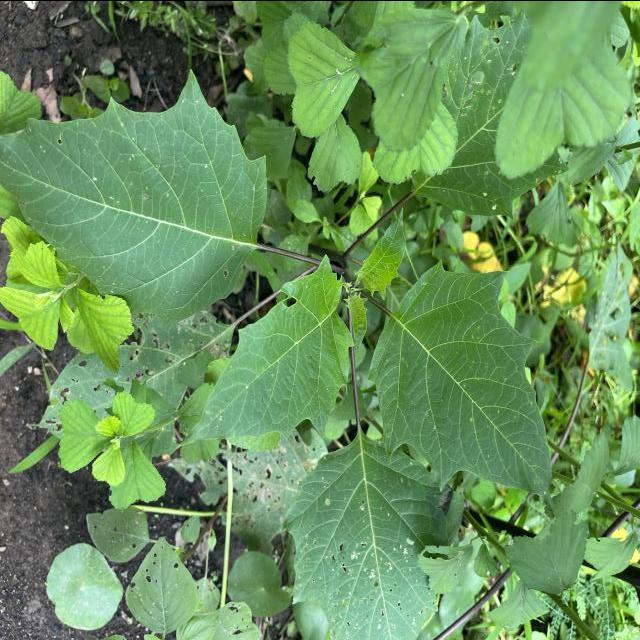Datura metal linn: (0, 64, 269, 326), (366, 256, 557, 519), (175, 252, 359, 448)
